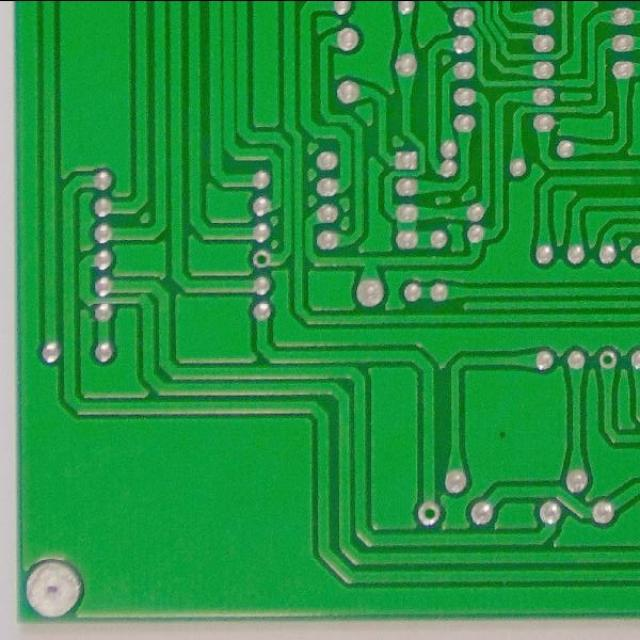Missing_Hole: (414, 499, 444, 527), (250, 247, 272, 270), (597, 349, 619, 371)
